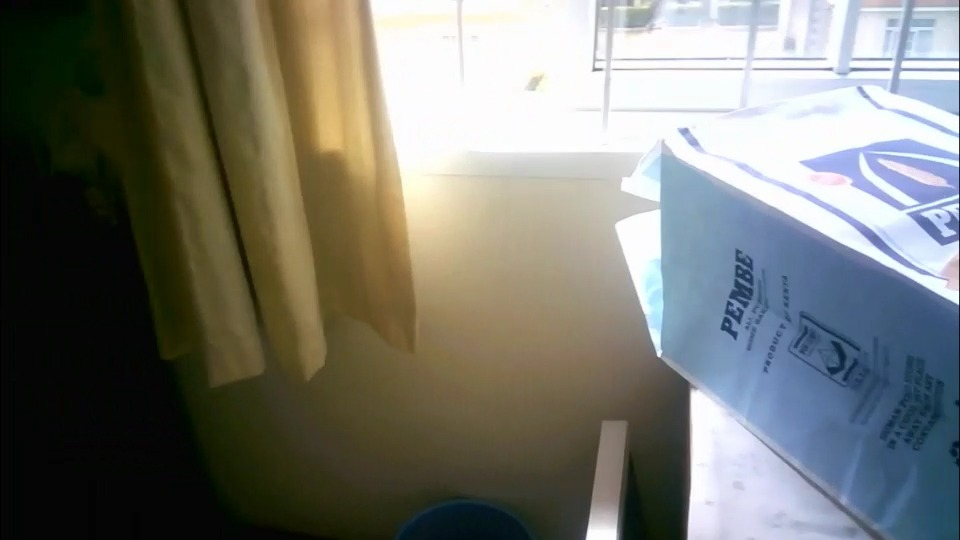wheat_flour_blue_label: (654, 81, 960, 540)
